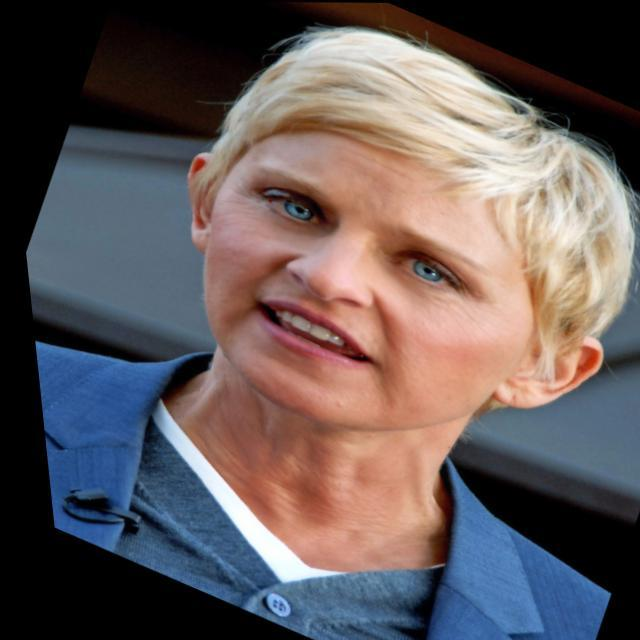Nonhelmet: (183, 23, 637, 434)
